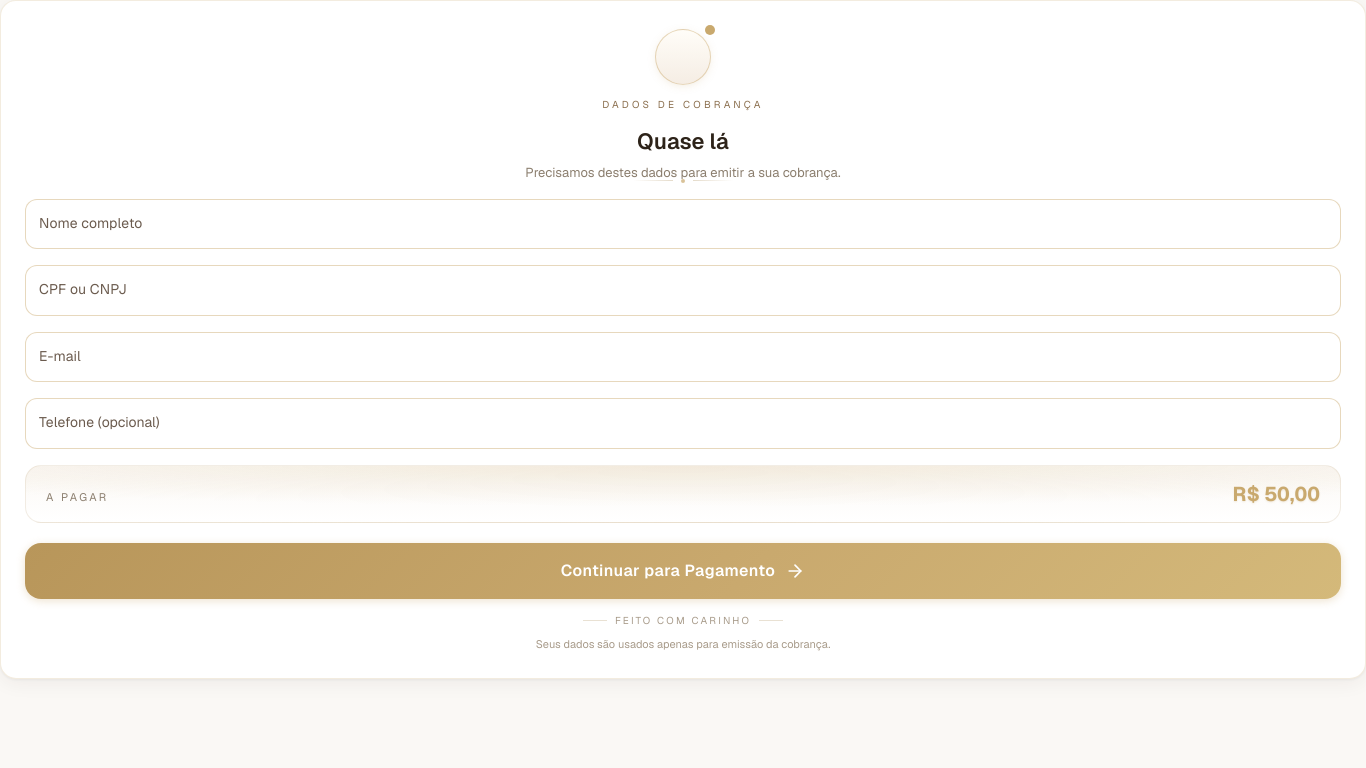
Scenario: PublicBillingForm › masks CPF as the user types
The image size is (1366, 768).
In the field labelled "CPF ou CNPJ": (683, 290) x1=25 y1=265 x2=1341 y2=316, type "12345678909"
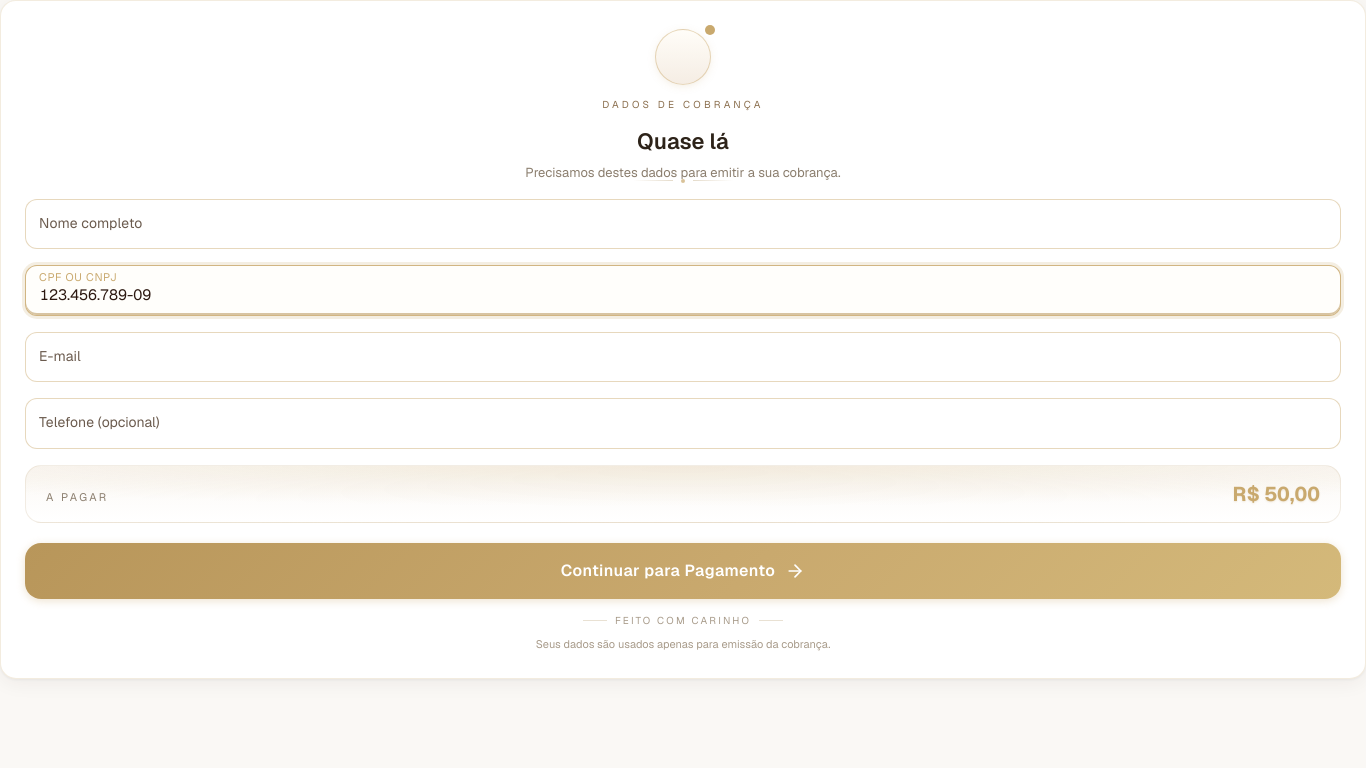
Now the field labelled "CPF ou CNPJ" holds "123.456.789-09", box x1=25 y1=265 x2=1341 y2=316
